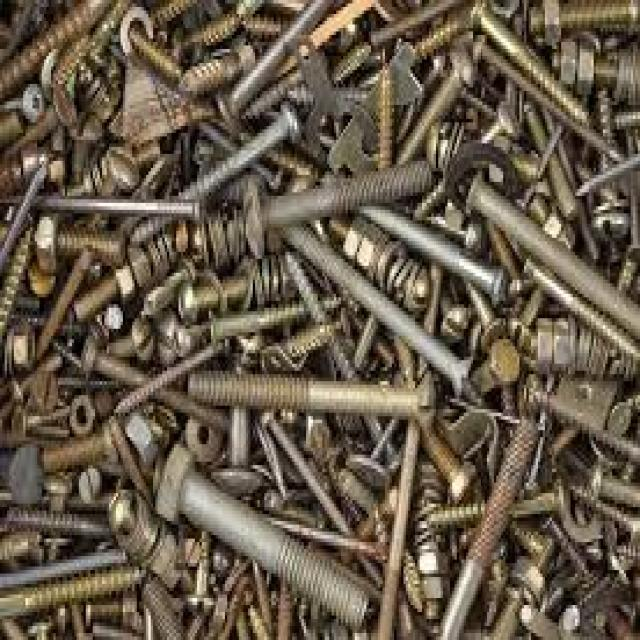metal: (0, 0, 638, 637), (151, 441, 371, 637), (271, 224, 471, 392), (462, 168, 638, 343), (283, 245, 399, 469), (260, 406, 385, 588), (436, 413, 533, 637), (239, 154, 431, 259), (471, 31, 619, 161), (79, 329, 227, 444), (67, 221, 211, 326), (519, 252, 638, 378), (359, 203, 508, 301), (218, 0, 343, 115), (183, 364, 438, 420), (468, 0, 584, 122), (517, 252, 638, 367), (538, 507, 638, 637), (0, 0, 116, 112), (172, 98, 299, 199), (519, 371, 638, 472), (327, 38, 417, 168), (325, 210, 427, 315), (70, 224, 179, 322), (0, 559, 141, 633), (107, 483, 195, 598), (112, 336, 228, 423), (177, 256, 316, 319), (399, 46, 471, 165), (425, 479, 564, 535), (265, 511, 388, 574), (543, 101, 594, 252), (0, 549, 125, 609), (527, 315, 636, 378), (0, 196, 197, 227), (265, 514, 388, 563), (413, 451, 445, 623), (522, 98, 570, 210), (445, 136, 517, 210), (519, 0, 638, 42), (42, 472, 72, 633), (211, 402, 260, 500), (42, 420, 114, 486), (171, 0, 262, 52), (33, 210, 121, 262), (487, 556, 543, 637), (0, 220, 32, 353), (364, 0, 462, 42), (573, 147, 638, 210), (0, 504, 109, 539), (408, 7, 466, 70), (127, 25, 181, 88), (554, 371, 617, 423), (473, 336, 519, 406), (469, 332, 520, 388), (376, 45, 397, 168), (550, 52, 615, 91), (515, 602, 587, 637), (141, 521, 181, 584), (123, 406, 160, 469), (181, 413, 225, 465), (0, 140, 37, 199), (436, 280, 466, 346), (118, 4, 153, 60), (104, 140, 139, 192), (0, 528, 42, 567), (253, 556, 271, 637), (37, 45, 63, 98), (241, 11, 290, 39), (74, 465, 102, 511), (399, 542, 417, 612), (341, 214, 366, 263), (619, 42, 638, 105), (274, 574, 292, 637), (355, 221, 378, 270), (413, 570, 448, 602), (603, 399, 638, 430), (376, 241, 399, 287), (413, 549, 448, 577), (19, 80, 44, 119), (536, 311, 552, 364), (552, 315, 568, 367), (540, 0, 559, 42), (557, 35, 573, 77), (575, 45, 589, 91), (246, 602, 264, 637), (46, 532, 72, 553), (123, 231, 137, 262), (605, 241, 619, 266)
